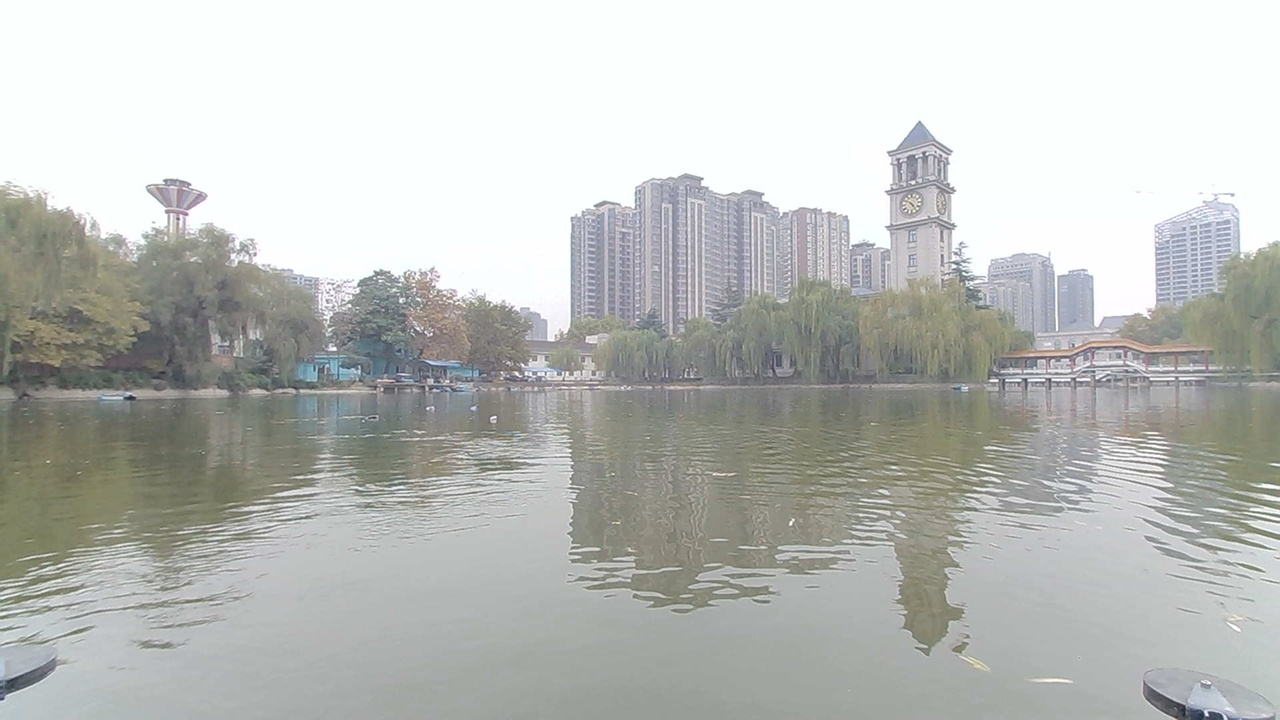bottle: (490, 403, 526, 434), (363, 407, 397, 436), (464, 394, 502, 419), (423, 393, 451, 418)
